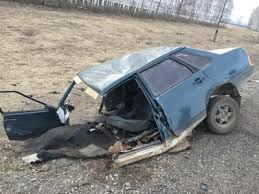car: (24, 28, 247, 163)
